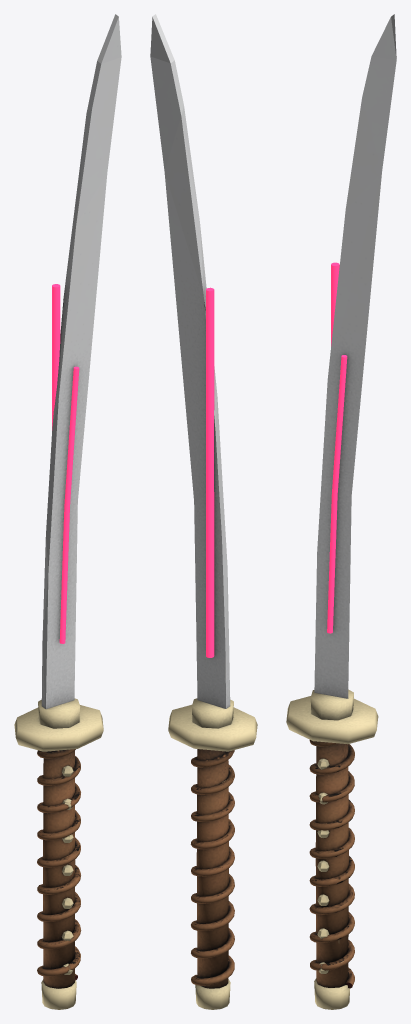
The model's file is arma_katana_excelente.glb.
3 views of the same model, side by side, from view 1: azimuth 30°, elevation 25°; view 2: azimuth 150°, elevation 25°; view 3: azimuth 330°, elevation 25° (orthographic). The views are drawn at different scales.
Parts seen in each view (by area): view 1: arma_katana_excelente, lamina_runa, lamina_runa2; view 2: arma_katana_excelente, lamina_runa2; view 3: arma_katana_excelente, lamina_runa, lamina_runa2.
Boxes of the visible parts, x1=… form: arma_katana_excelente: x1=14, y1=14, x2=121, y2=1009; lamina_runa: x1=59, y1=366, x2=79, y2=643; lamina_runa2: x1=52, y1=284, x2=60, y2=430; arma_katana_excelente: x1=150, y1=14, x2=257, y2=1009; lamina_runa2: x1=206, y1=287, x2=214, y2=657; arma_katana_excelente: x1=286, y1=14, x2=396, y2=1009; lamina_runa: x1=327, y1=355, x2=347, y2=633; lamina_runa2: x1=331, y1=262, x2=339, y2=346.
Bounding box in the file's own units: 0.1174 × 1.04 × 0.0768.
Materials: 3 (1 with a texture image).
